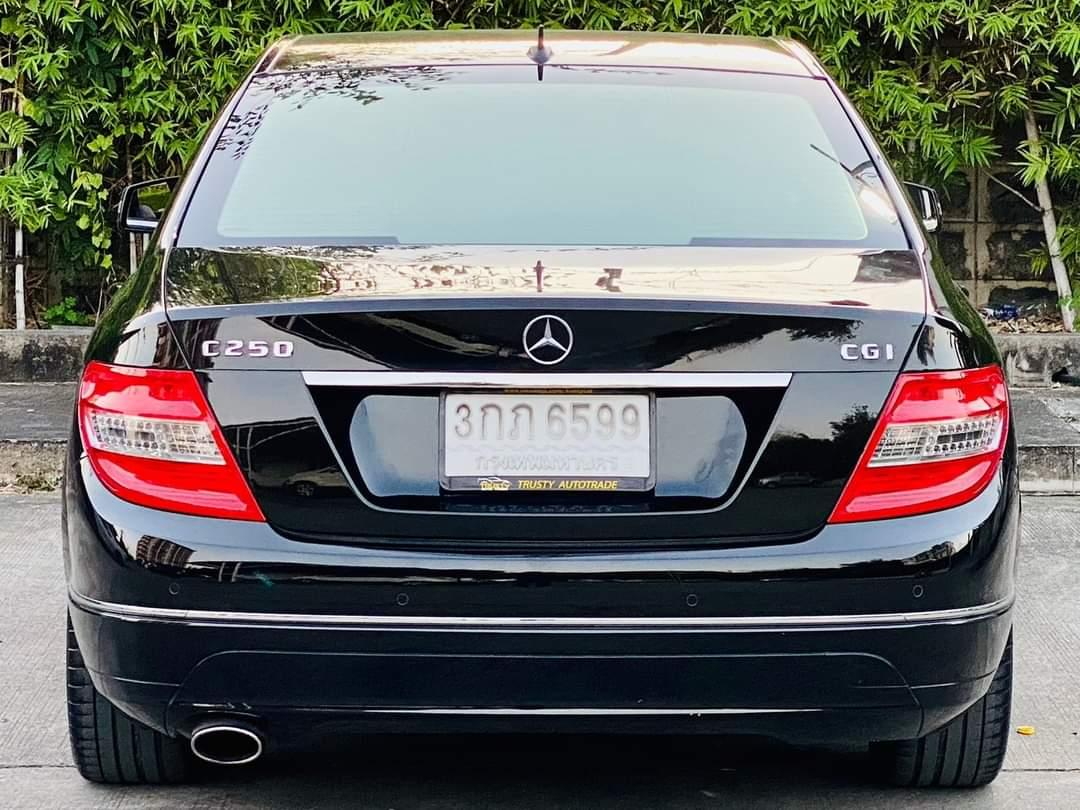license-plate: (435, 385, 659, 495)
